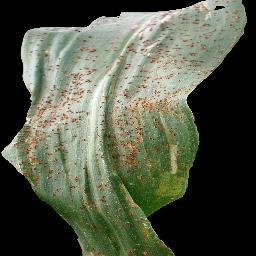Corn_Common_Rust: (100, 0, 250, 256), (0, 14, 98, 256)
